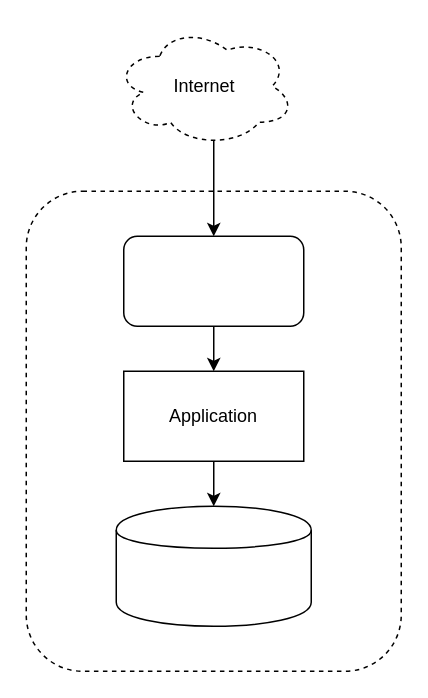
Some shapes in this 428 by 698 pixel diagram are drawn without their labels. Here are the shapes that lost their labels. From the top down, the box of each, then its label:
(122, 235, 304, 326): Load Balancer
(115, 505, 311, 626): Database
